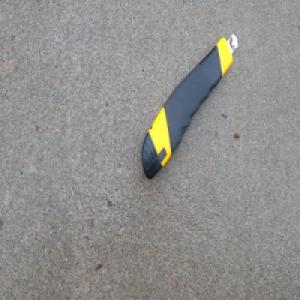Cutter: (138, 33, 236, 183)
